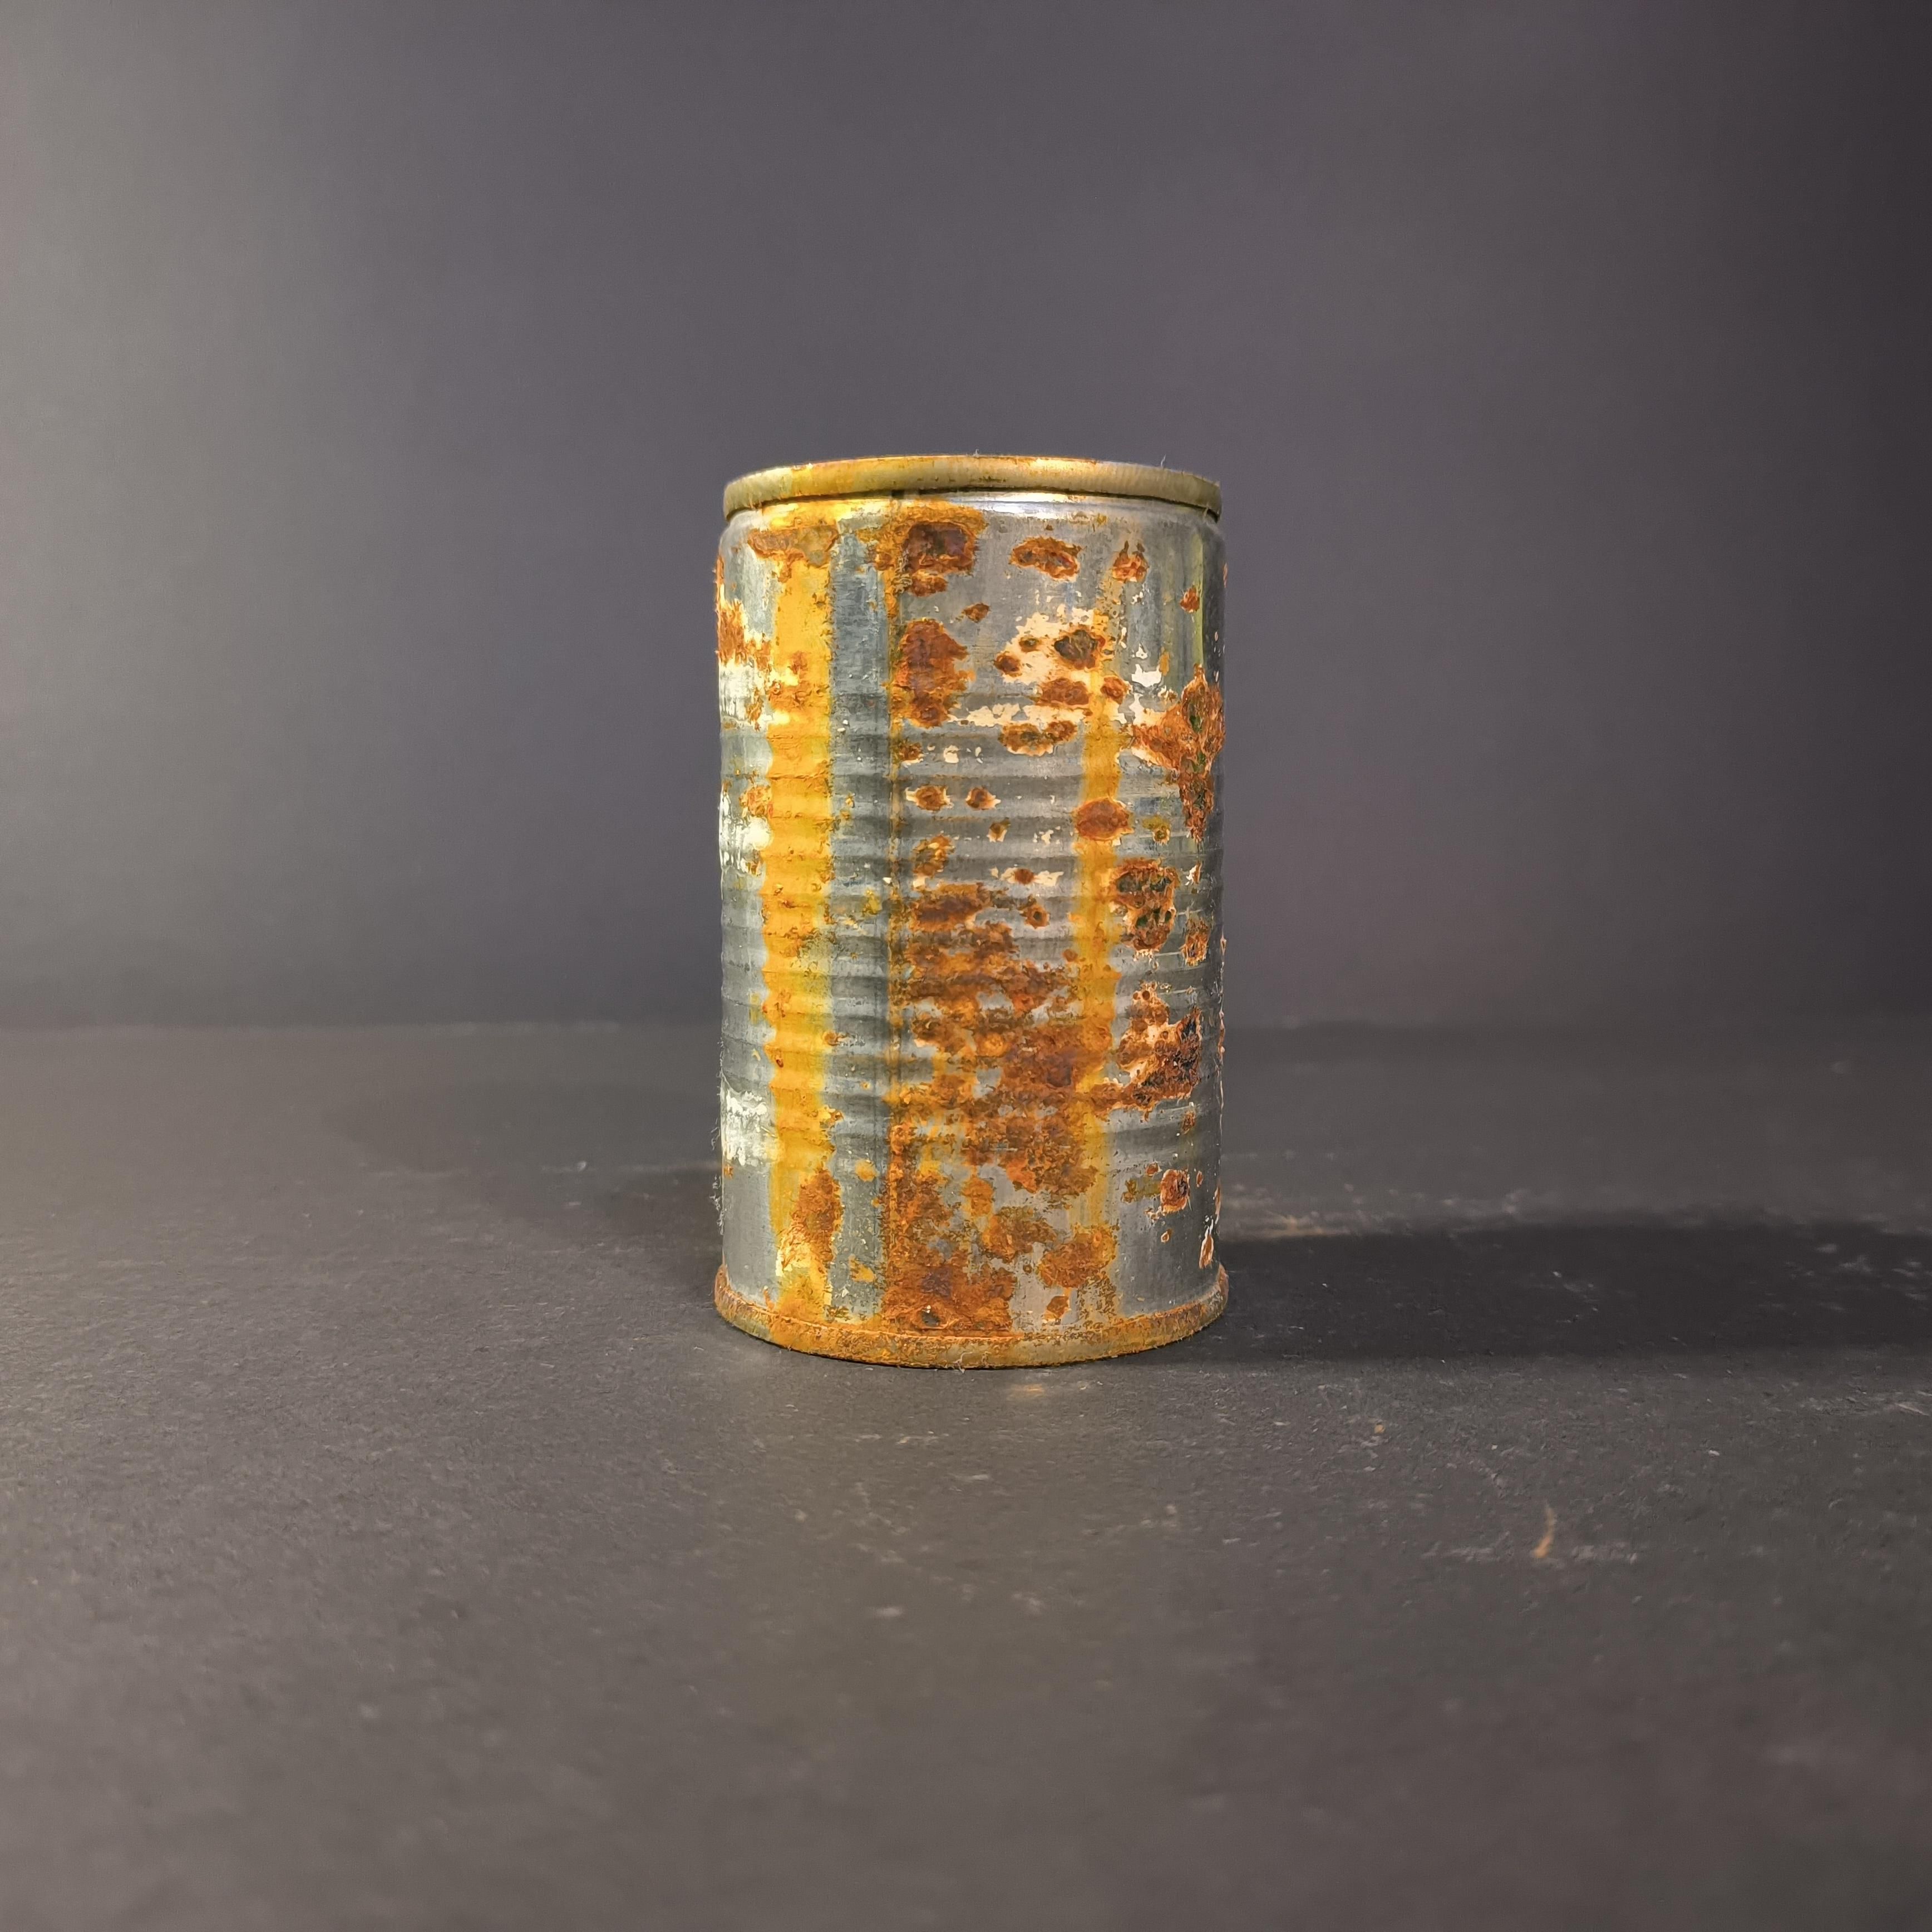Rusted: (694, 428, 1260, 1389)
